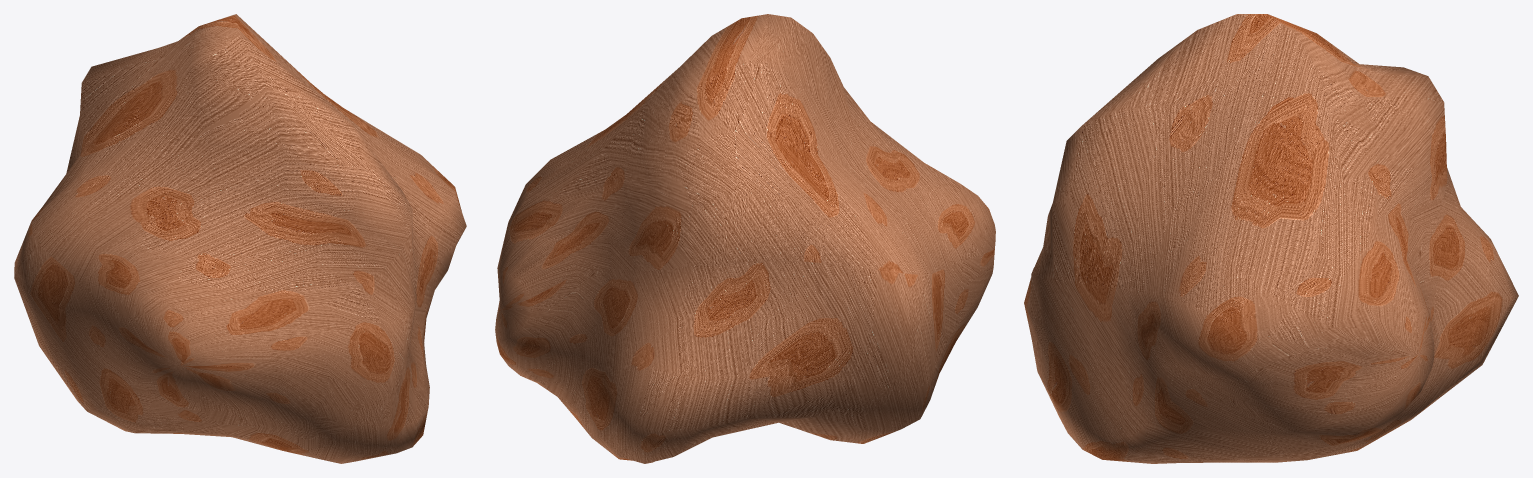
Rendered from meteo_01.obj.
The picture shows the model from 3 angles, left to right: view 1: azimuth 30°, elevation 25°; view 2: azimuth 150°, elevation 25°; view 3: azimuth 270°, elevation 25°; orthographic projection. The views are drawn at different scales.
Parts seen in each view (by area): view 1: pSphere1; view 2: pSphere1; view 3: pSphere1.
Part boxes in pixels (x1=…): pSphere1: x1=14, y1=14, x2=466, y2=463; pSphere1: x1=495, y1=14, x2=995, y2=463; pSphere1: x1=1024, y1=14, x2=1518, y2=463.
Bounding box in the file's own units: 2.42 × 2.35 × 2.55.
1 material, 1 textured.
